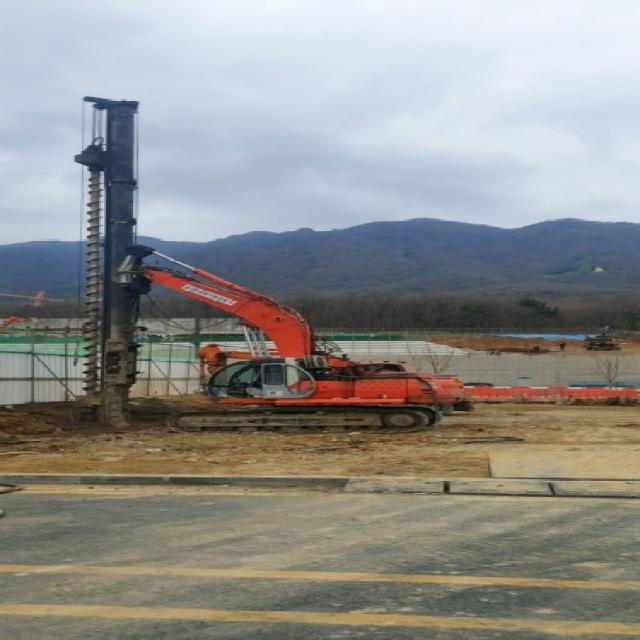excavator: (118, 246, 464, 434)
pile: (82, 172, 104, 396)
